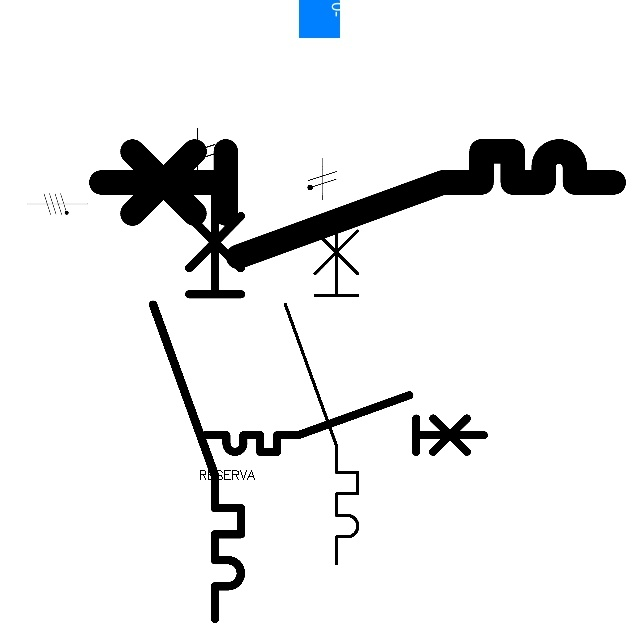interruptor_termomagnetico: (88, 138, 627, 270), (142, 179, 252, 630), (276, 200, 367, 573), (198, 388, 491, 459)
